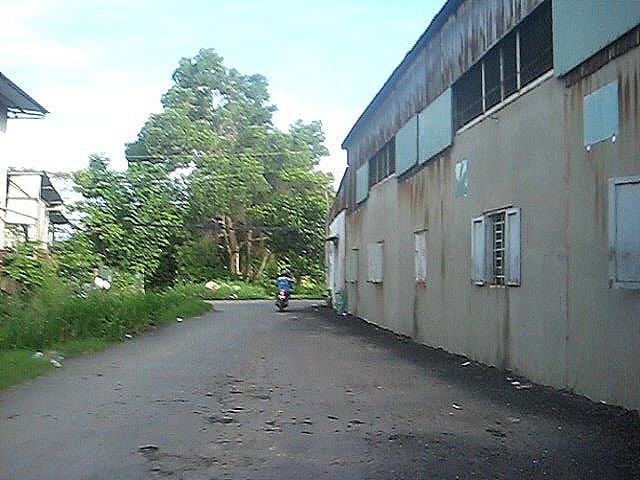hole: (290, 417, 315, 435), (258, 419, 283, 432), (135, 443, 160, 455), (202, 415, 235, 424), (220, 404, 248, 414), (346, 418, 365, 428), (228, 386, 244, 393), (325, 414, 341, 420)
